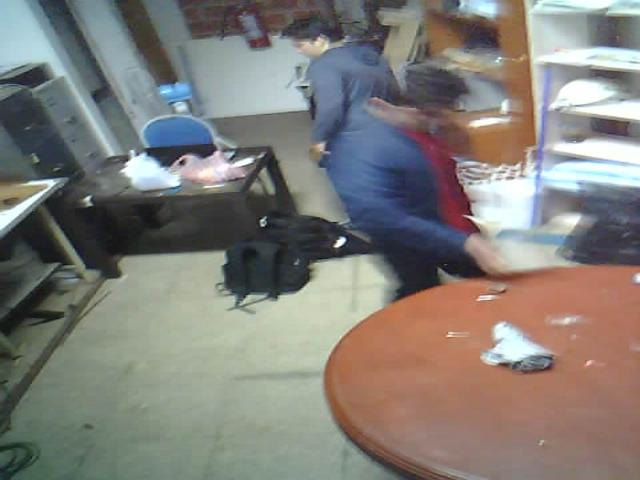person: (320, 51, 536, 313), (271, 12, 402, 164)
